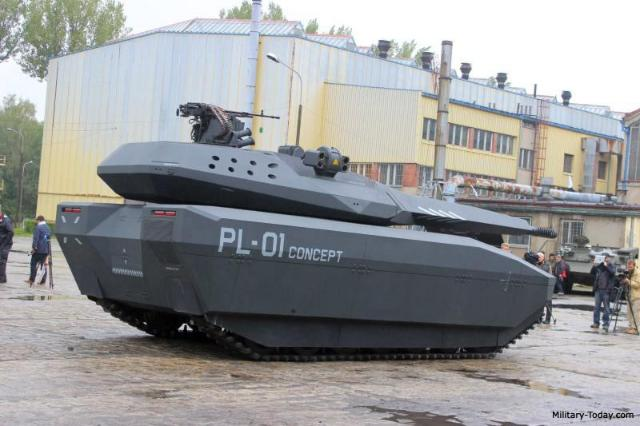other: (28, 207, 50, 281)
tank: (62, 111, 546, 348), (558, 240, 624, 282)
